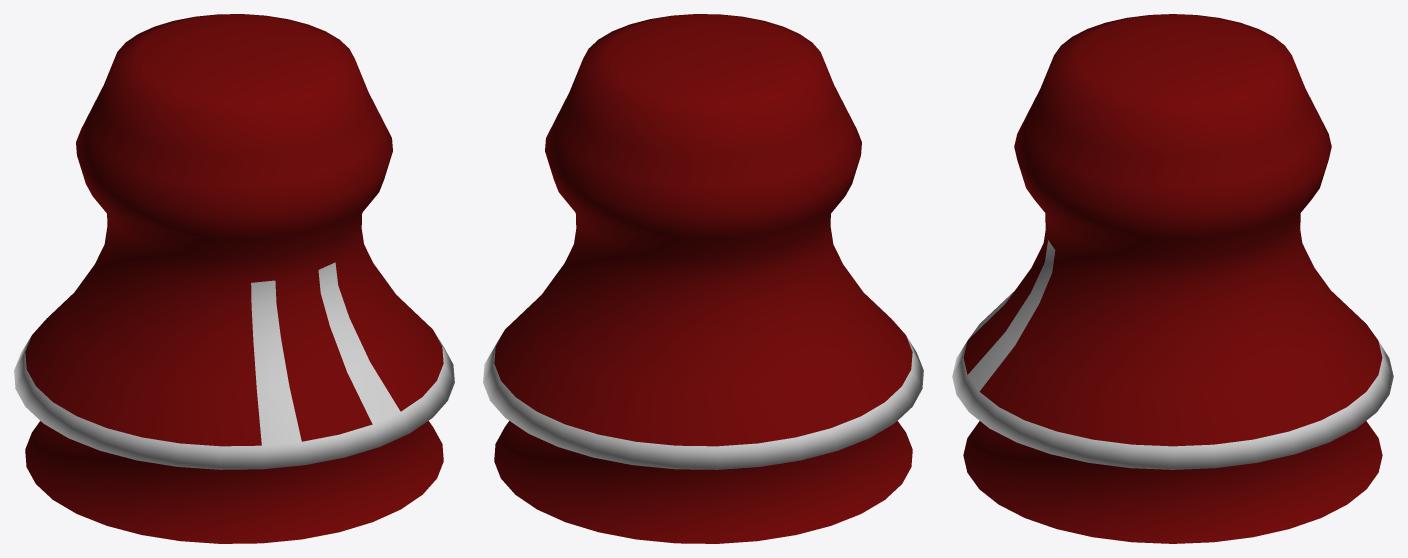
The model's file is body.gltf.
3 renders of one model, left to right at view 1: azimuth 30°, elevation 25°; view 2: azimuth 150°, elevation 25°; view 3: azimuth 270°, elevation 25°, orthographic.
Visible parts, largest first — view 1: Sphere.143; view 2: Sphere.143; view 3: Sphere.143.
Part boxes in pixels (box(x1,y1,x2,y2)): Sphere.143: box(14, 14, 454, 543); Sphere.143: box(483, 14, 923, 543); Sphere.143: box(952, 14, 1393, 543).
Bounding box in the file's own units: 0.3867 × 0.3939 × 0.3867.
2 materials, 2 textured.
